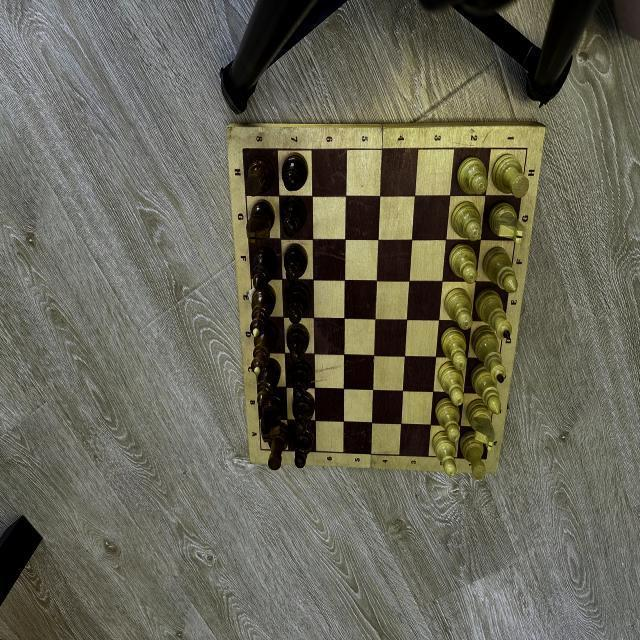chess-table-corners: (523, 144, 531, 152), (240, 145, 247, 153), (258, 446, 264, 454), (484, 456, 488, 462)
